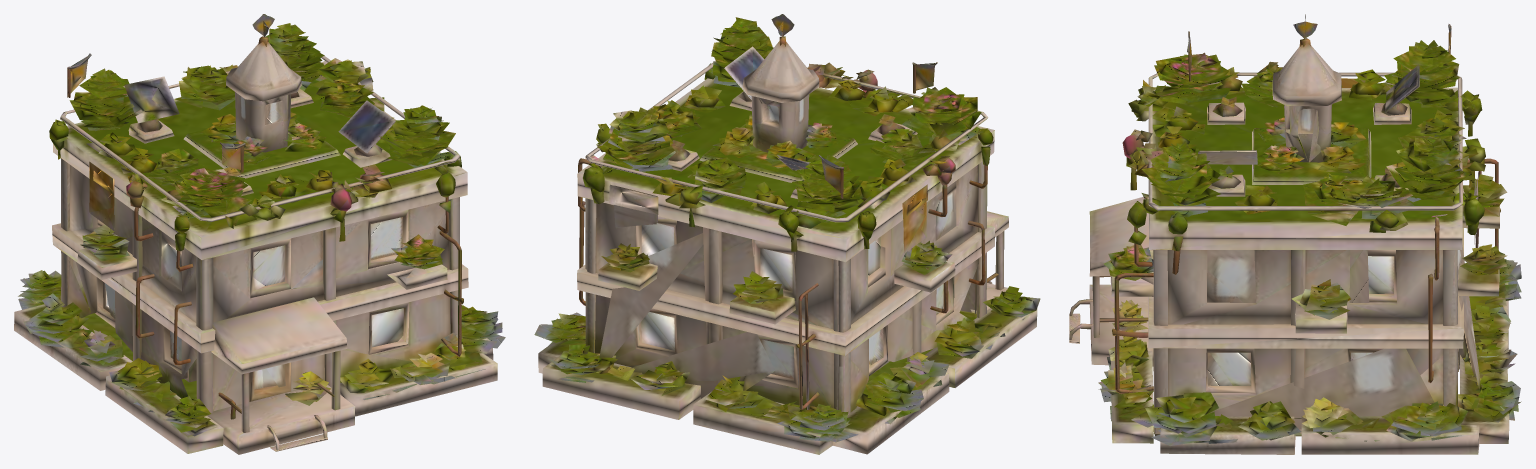
The model's file is house-home.glb.
3 renders of one model, left to right at view 1: azimuth 30°, elevation 25°; view 2: azimuth 150°, elevation 25°; view 3: azimuth 270°, elevation 25°, orthographic. The views are drawn at different scales.
Visible parts, largest first — view 1: house-home; view 2: house-home; view 3: house-home.
Part boxes in pixels (x1,y1,x2,y2): house-home: (14, 14, 505, 454); house-home: (534, 14, 1040, 454); house-home: (1069, 14, 1521, 454).
Bounding box in the file's own units: 6.96 × 6.11 × 7.
Materials: 1 (1 with a texture image).
